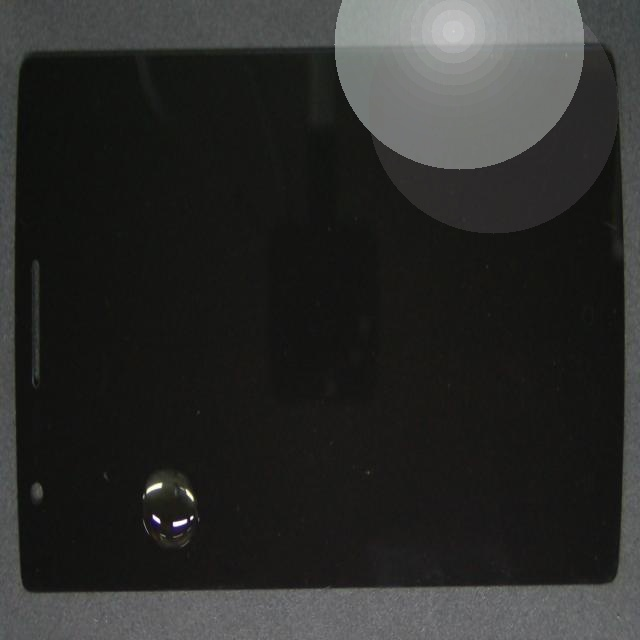oil: (87, 296, 288, 640)
